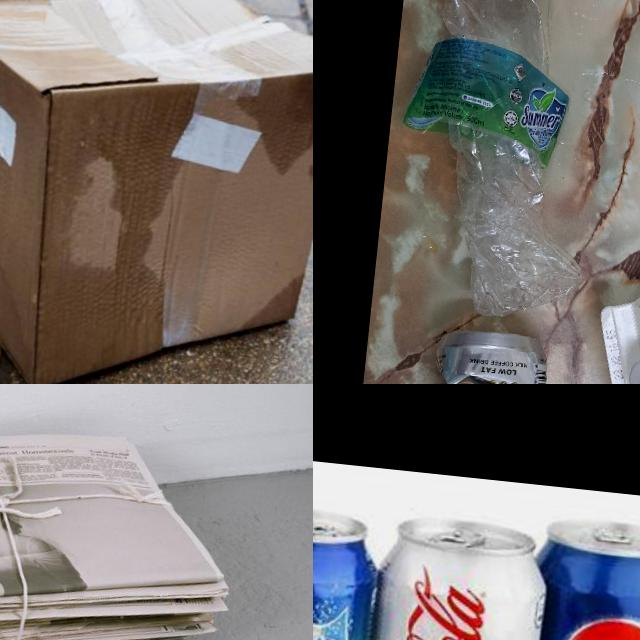aba de lata: (427, 524, 487, 550), (593, 522, 635, 543), (313, 514, 339, 535)
garrafa plástica: (385, 0, 618, 326)
lata: (347, 509, 553, 640), (508, 512, 640, 640), (383, 322, 551, 384)
papel: (0, 403, 246, 640)
papelão: (0, 0, 313, 384)
